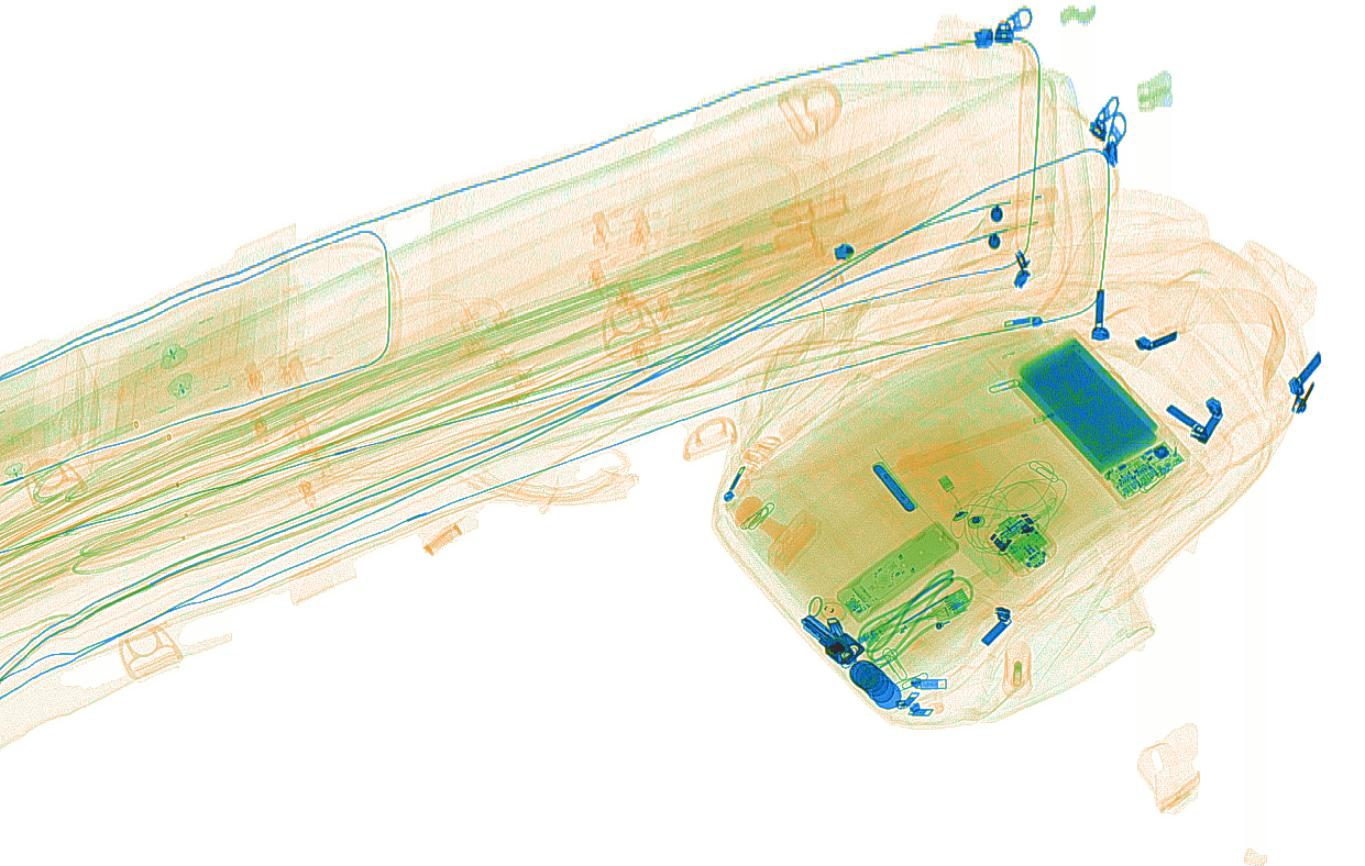seal: (729, 494, 822, 573)
